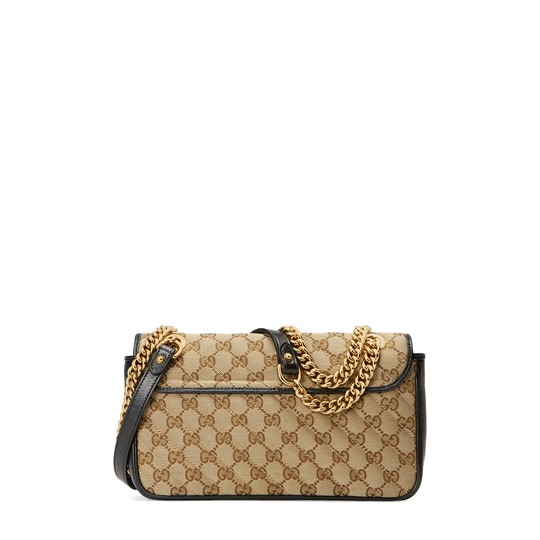Gucci: (77, 293, 445, 521), (177, 406, 379, 483)
